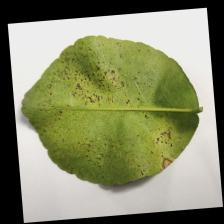canker: (53, 47, 125, 109)
